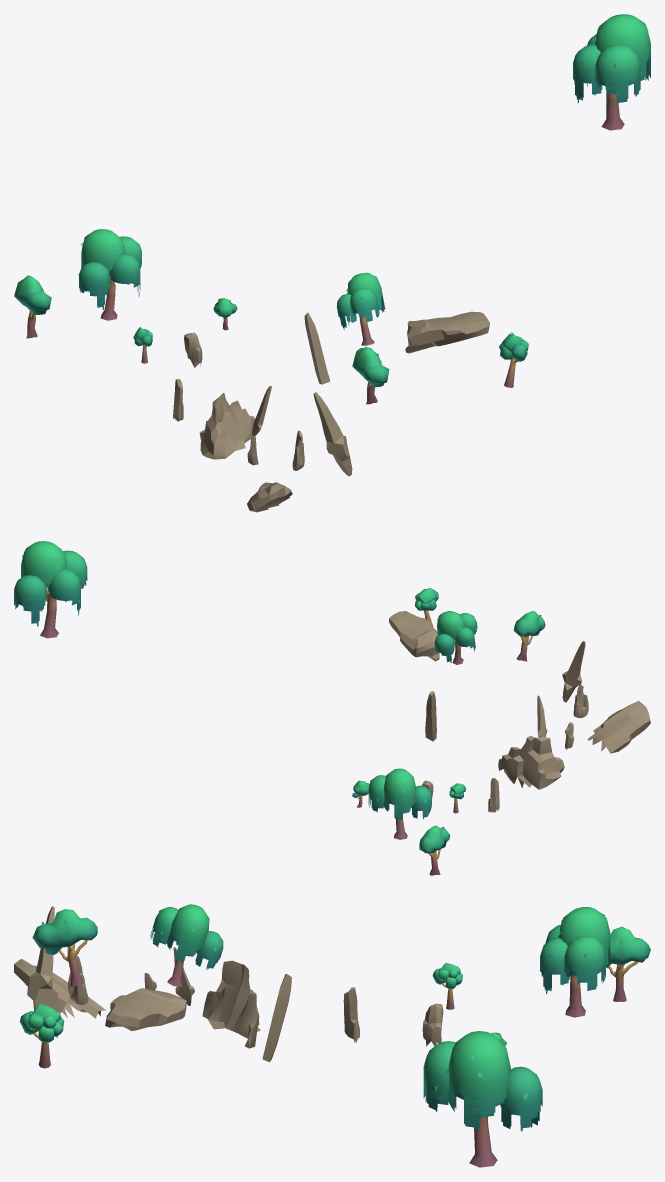
The model's file is rock_tree.glb.
3 views of the same model, one above another, from view 1: azimuth 30°, elevation 25°; view 2: azimuth 150°, elevation 25°; view 3: azimuth 270°, elevation 25° (orthographic). The views are drawn at different scales.
Visible parts, largest first — view 1: rock_trees; view 2: rock_trees; view 3: rock_trees.
Part boxes in pixels (left/top/right/bottom): rock_trees: left=14, top=14, right=650, bottom=512; rock_trees: left=14, top=541, right=650, bottom=875; rock_trees: left=14, top=904, right=650, bottom=1167.
Size of what is drawn, in the model's own units: 166 by 67.42 by 129.
2 materials, 1 textured.
